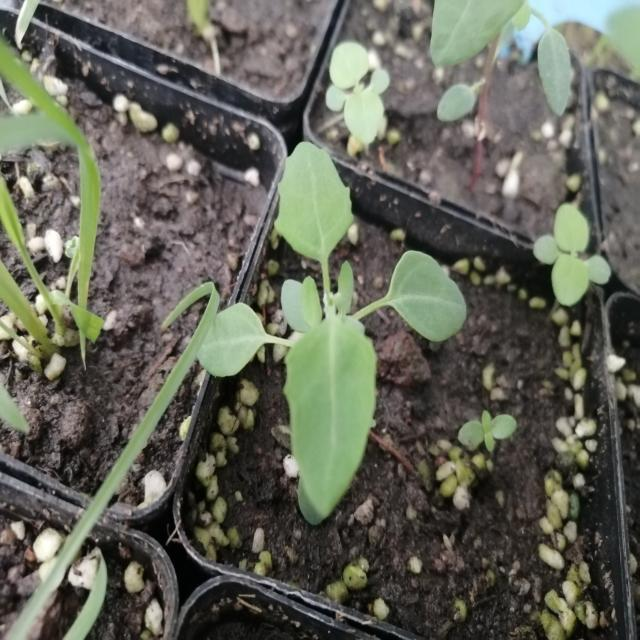goosefoots: (214, 156, 498, 496)
